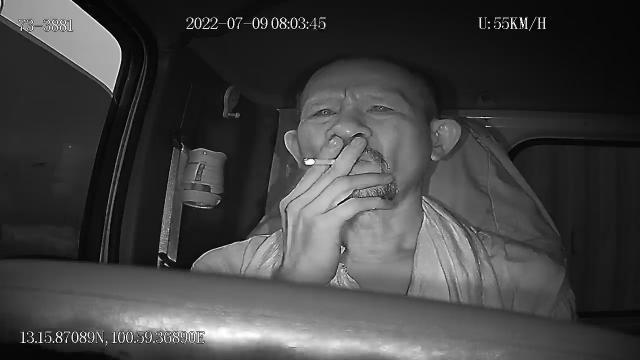SafeDriving: (362, 95, 402, 118), (304, 101, 339, 123)
Smoking: (302, 156, 338, 168)
